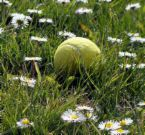tennis ball: (53, 34, 105, 71)
